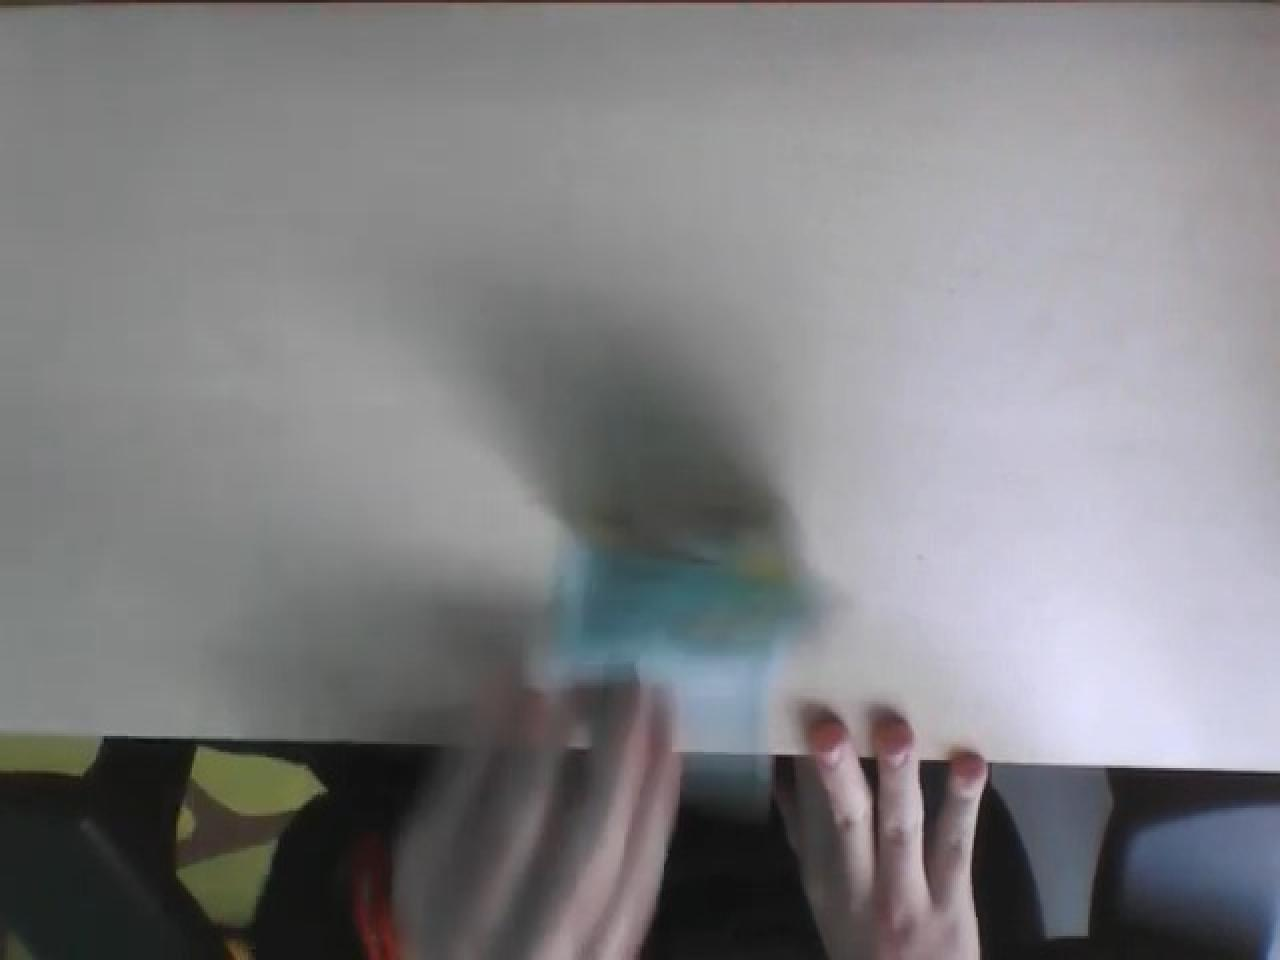100leva: (4, 8, 1278, 782), (524, 514, 822, 754)
